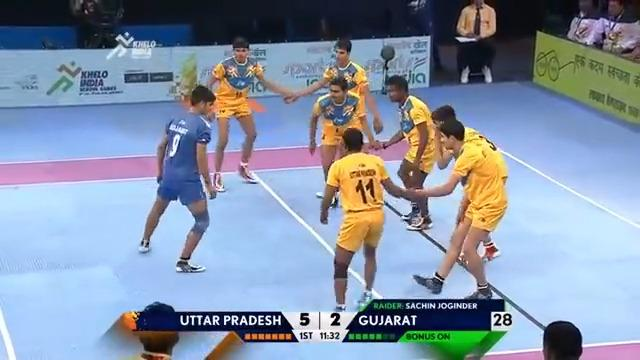Player: (316, 125, 429, 311), (405, 116, 510, 301), (204, 35, 295, 192), (428, 105, 539, 224), (371, 73, 442, 230), (319, 69, 364, 192), (332, 39, 364, 126)
Raider: (136, 82, 219, 274)
referee: (453, 0, 497, 84)
